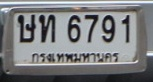txt18: (38, 14, 56, 43)
txt34: (17, 14, 36, 43)
